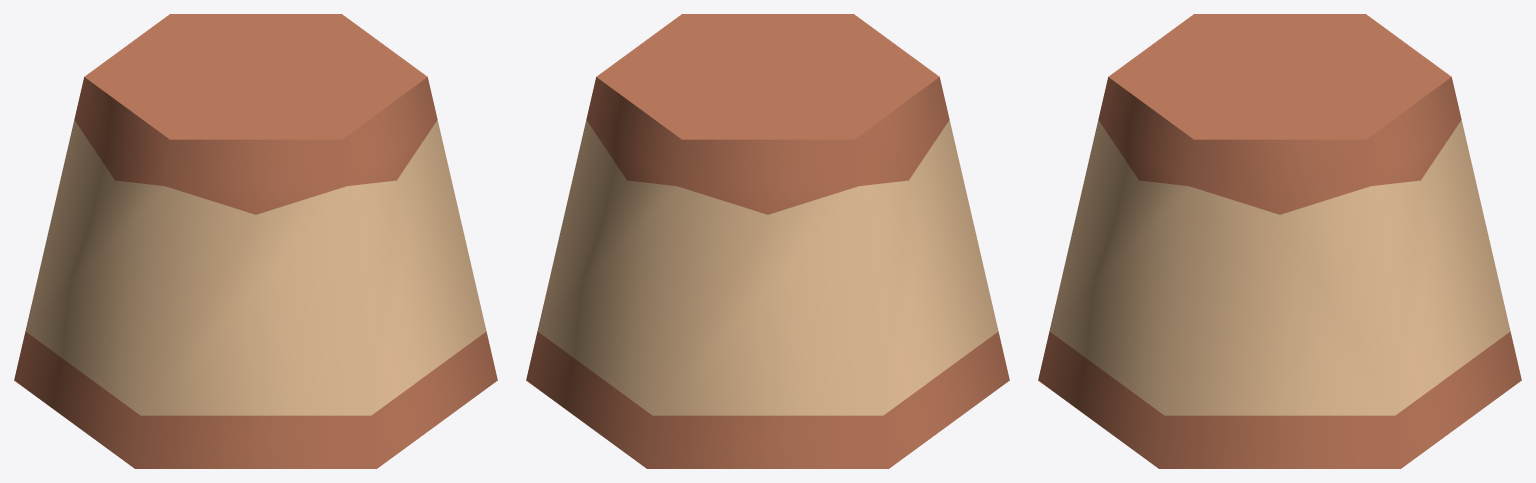
File: pudding.GLB
The picture shows the model from 3 angles, left to right: view 1: azimuth 30°, elevation 25°; view 2: azimuth 150°, elevation 25°; view 3: azimuth 270°, elevation 25°; orthographic projection.
Parts seen in each view (by area): view 1: pudding; view 2: pudding; view 3: pudding.
Part boxes in pixels (<box>): pudding: <box>14,14,497,468</box>; pudding: <box>526,14,1009,468</box>; pudding: <box>1038,14,1521,468</box>.
Bounding box in the file's own units: 0.2499 × 0.1998 × 0.2886.
